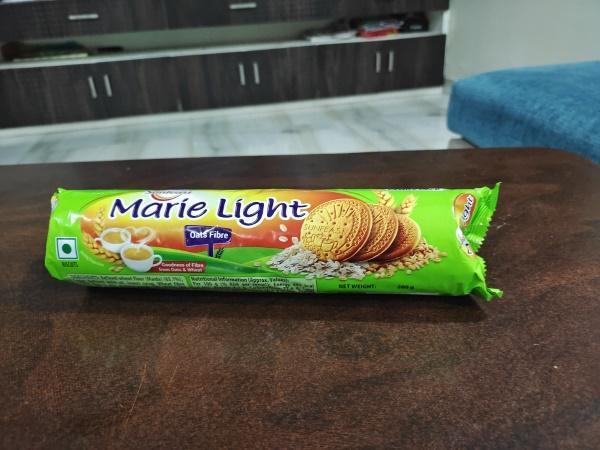MarieLight: (40, 183, 501, 311)
